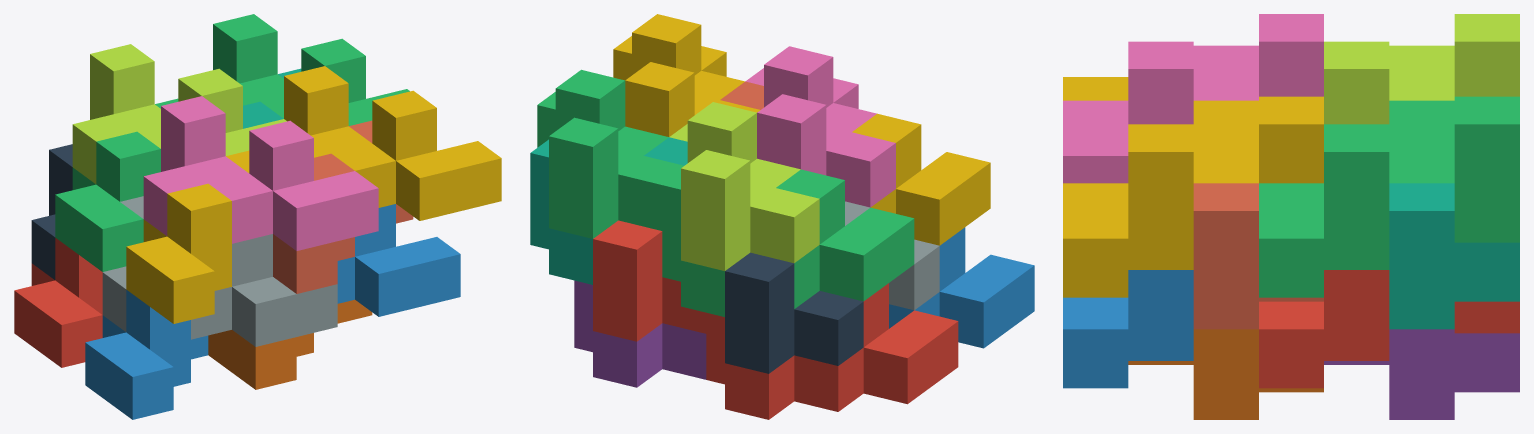
Rendered from tiling.obj.
3 views of the same model, side by side, from view 1: azimuth 30°, elevation 25°; view 2: azimuth 150°, elevation 25°; view 3: azimuth 270°, elevation 25° (orthographic). The views are drawn at different scales.
Parts seen in each view (by area): view 1: copy_2_domain_4, copy_2_domain_8, copy_1_domain_4, copy_2_domain_2, copy_2_domain_3, copy_1_domain_2, copy_1_domain_3, copy_2_domain_6, copy_2_domain_7, copy_1_domain_1, copy_1_domain_6, copy_1_domain_8 (+2 smaller); view 2: copy_2_domain_3, copy_2_domain_7, copy_1_domain_1, copy_1_domain_3, copy_2_domain_4, copy_2_domain_1, copy_2_domain_8, copy_2_domain_5, copy_1_domain_4, copy_1_domain_2, copy_1_domain_5, copy_1_domain_7 (+2 smaller); view 3: copy_2_domain_7, copy_2_domain_8, copy_2_domain_4, copy_2_domain_3, copy_2_domain_5, copy_1_domain_7, copy_2_domain_6, copy_1_domain_5, copy_1_domain_8, copy_1_domain_6, copy_1_domain_4, copy_1_domain_3.
Boxes of the visible parts, left/top/right/bottom form: copy_2_domain_4: left=143, top=96, right=378, bottom=250; copy_2_domain_8: left=284, top=66, right=501, bottom=220; copy_1_domain_4: left=126, top=150, right=249, bottom=323; copy_2_domain_2: left=102, top=196, right=337, bottom=346; copy_2_domain_3: left=72, top=44, right=286, bottom=183; copy_1_domain_2: left=85, top=290, right=208, bottom=419; copy_1_domain_3: left=55, top=98, right=178, bottom=271; copy_2_domain_6: left=337, top=204, right=460, bottom=316; copy_2_domain_7: left=213, top=14, right=409, bottom=125; copy_1_domain_1: left=14, top=238, right=102, bottom=367; copy_1_domain_6: left=208, top=299, right=372, bottom=389; copy_1_domain_8: left=273, top=120, right=413, bottom=293; copy_2_domain_3: left=669, top=102, right=819, bottom=270; copy_2_domain_7: left=537, top=69, right=683, bottom=238; copy_1_domain_1: left=706, top=283, right=958, bottom=419; copy_1_domain_3: left=662, top=169, right=914, bottom=316; copy_2_domain_4: left=745, top=46, right=895, bottom=207; copy_2_domain_1: left=725, top=252, right=863, bottom=373; copy_2_domain_8: left=613, top=14, right=760, bottom=136; copy_2_domain_5: left=593, top=220, right=706, bottom=341; copy_1_domain_4: left=852, top=113, right=990, bottom=245; copy_1_domain_2: left=889, top=227, right=1034, bottom=348; copy_1_domain_5: left=574, top=280, right=706, bottom=387; copy_1_domain_7: left=530, top=137, right=687, bottom=284; copy_2_domain_7: left=1259, top=96, right=1519, bottom=297; copy_2_domain_8: left=1063, top=96, right=1323, bottom=297; copy_2_domain_4: left=1063, top=14, right=1323, bottom=183; copy_2_domain_3: left=1324, top=14, right=1519, bottom=124; copy_2_domain_5: left=1259, top=270, right=1519, bottom=388; copy_1_domain_7: left=1389, top=183, right=1519, bottom=329; copy_2_domain_6: left=1063, top=270, right=1193, bottom=388; copy_1_domain_5: left=1324, top=329, right=1519, bottom=419; copy_1_domain_8: left=1193, top=183, right=1323, bottom=329; copy_1_domain_6: left=1128, top=329, right=1323, bottom=419; copy_1_domain_4: left=1063, top=77, right=1258, bottom=128; copy_1_domain_3: left=1389, top=100, right=1454, bottom=128.
Bounding box in the file's own units: 9 × 5 × 7.
